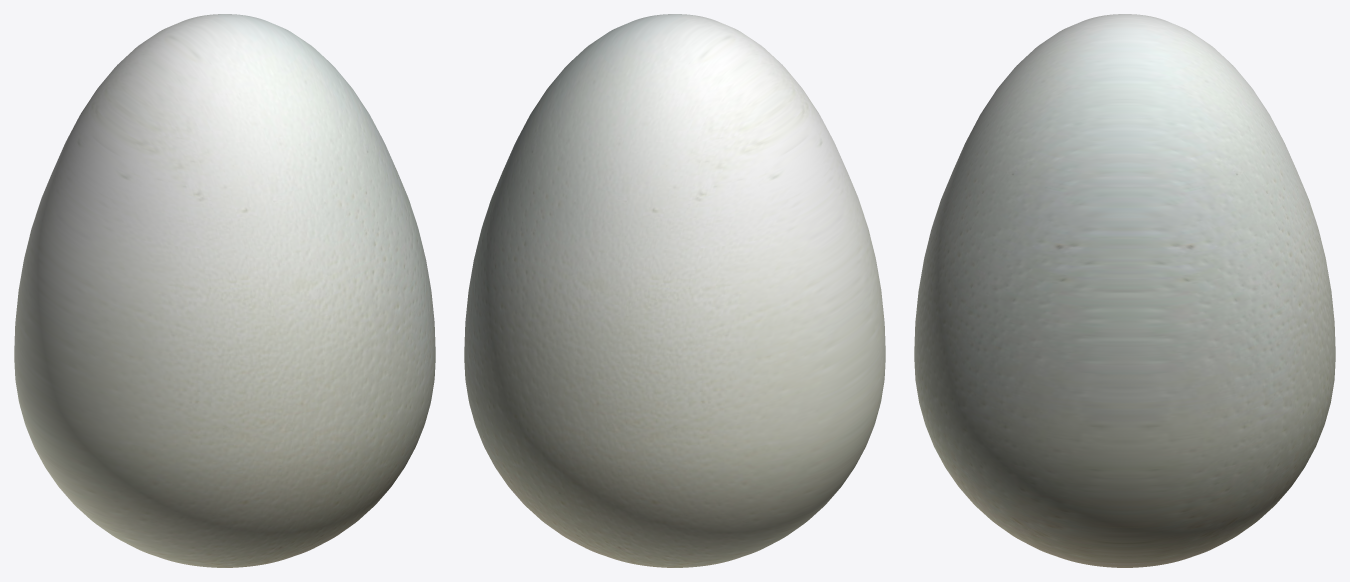
The model's file is chosen_egg.glb.
3 renders of one model, left to right at view 1: azimuth 30°, elevation 25°; view 2: azimuth 150°, elevation 25°; view 3: azimuth 270°, elevation 25°, orthographic.
Parts seen in each view (by area): view 1: Sphere09; view 2: Sphere09; view 3: Sphere09.
Part boxes in pixels (bbox=[...]): Sphere09: bbox=[14, 14, 435, 567]; Sphere09: bbox=[464, 14, 885, 567]; Sphere09: bbox=[914, 14, 1335, 567].
Bounding box in the file's own units: 2.05 × 2.8 × 2.05.
2 materials, 1 textured.
